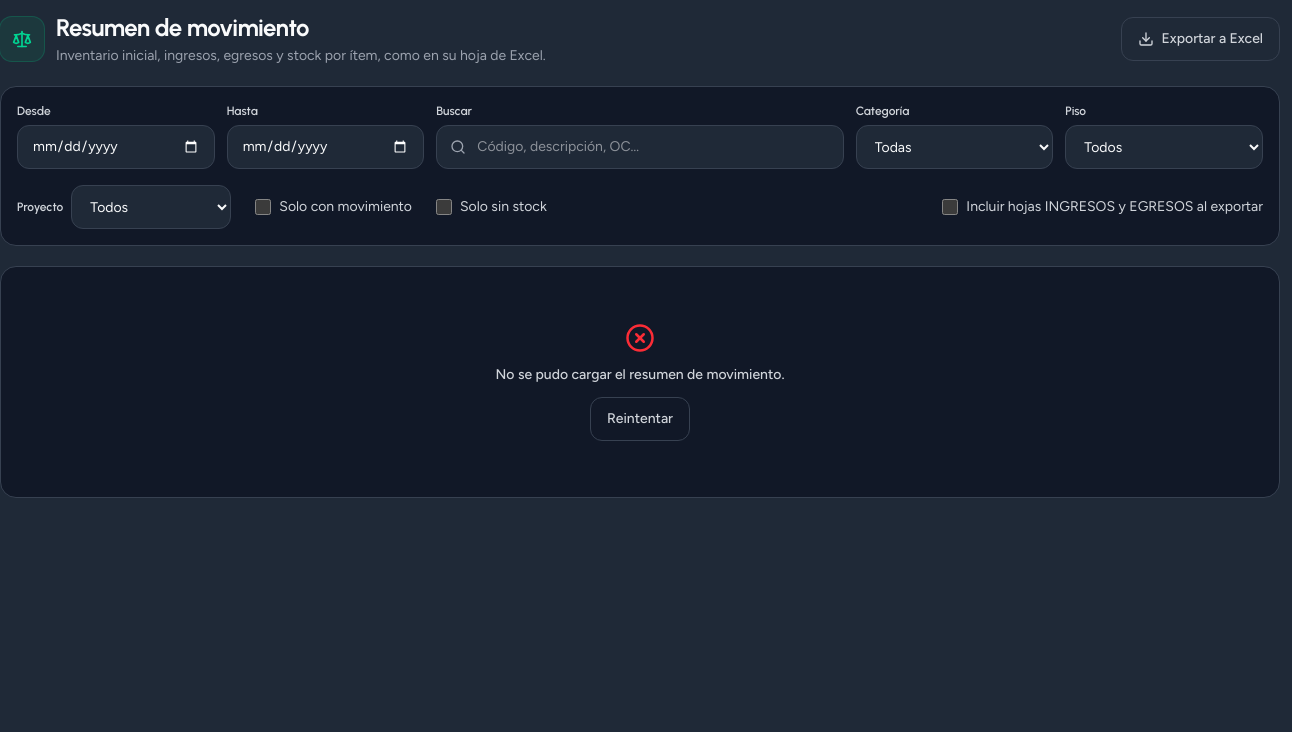
Test: ResumenPage › muestra el error y permite reintentar
Check: the text "No se pudo cargar el resumen de movimiento." is shown, box left=496, top=365, right=784, bottom=385
Click the button "Reintentar": click(640, 419) left=590, top=397, right=690, bottom=441
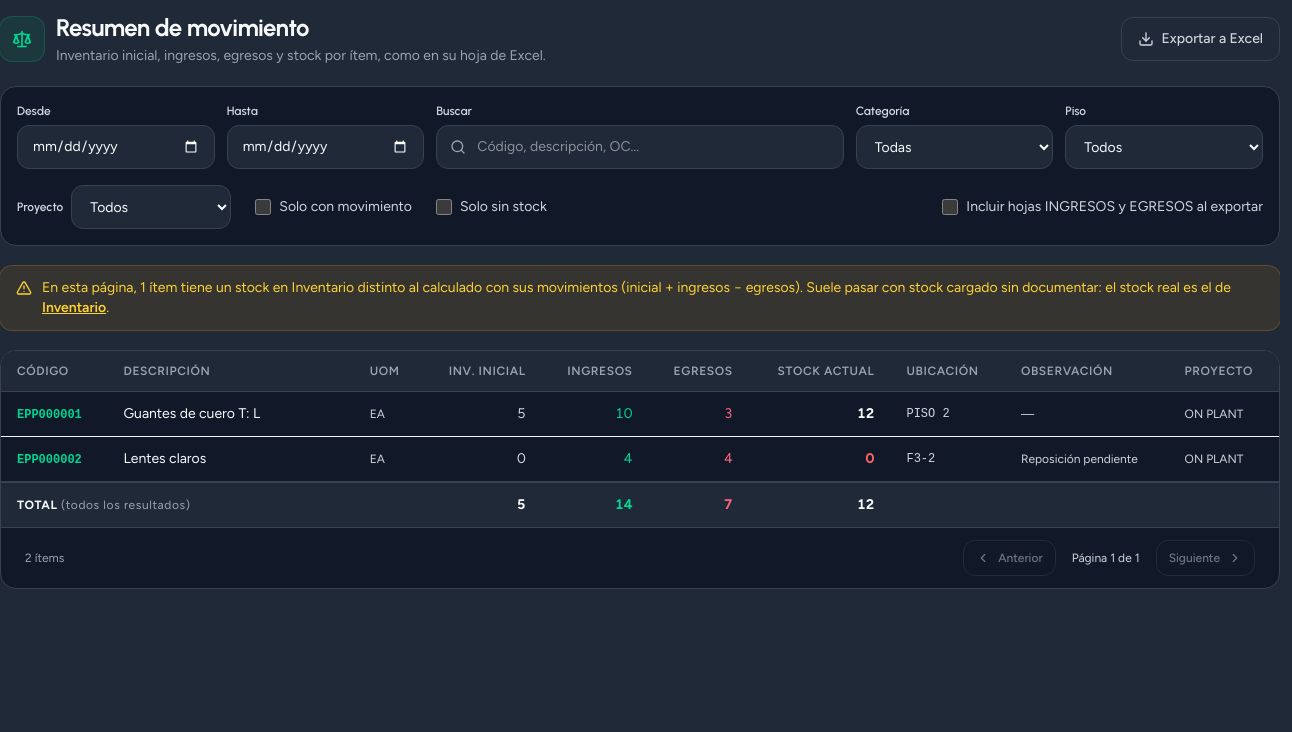
Check: the table is shown, box left=1, top=351, right=1279, bottom=527
